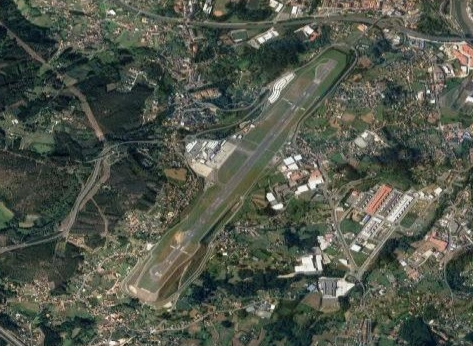airport: (146, 56, 339, 283)
motorway: (52, 199, 81, 240), (79, 154, 105, 199), (1, 235, 51, 257), (114, 1, 168, 20), (168, 17, 238, 31), (238, 17, 308, 31), (308, 12, 378, 26), (102, 136, 145, 155), (415, 31, 473, 44), (1, 320, 27, 346), (378, 20, 416, 37), (332, 213, 345, 245)
